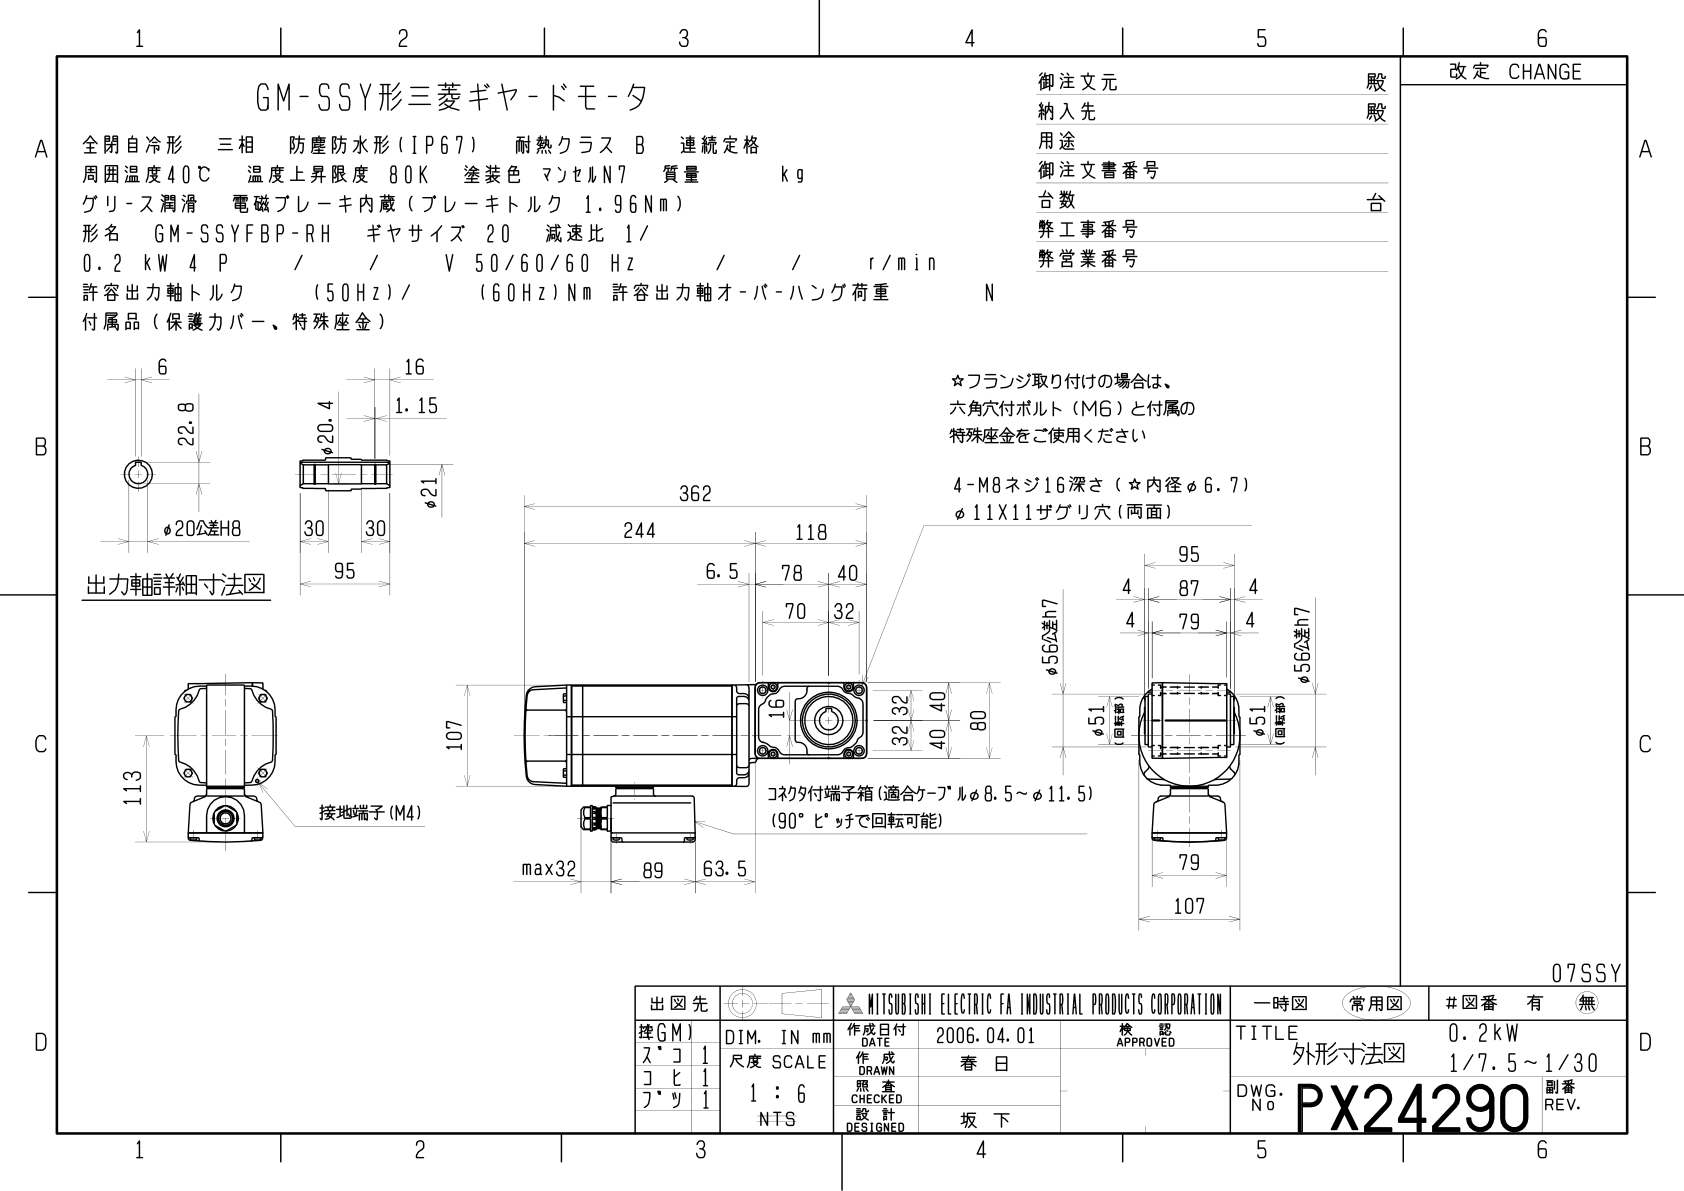GM_SSY_IP67_三相: (71, 339, 1346, 956)
